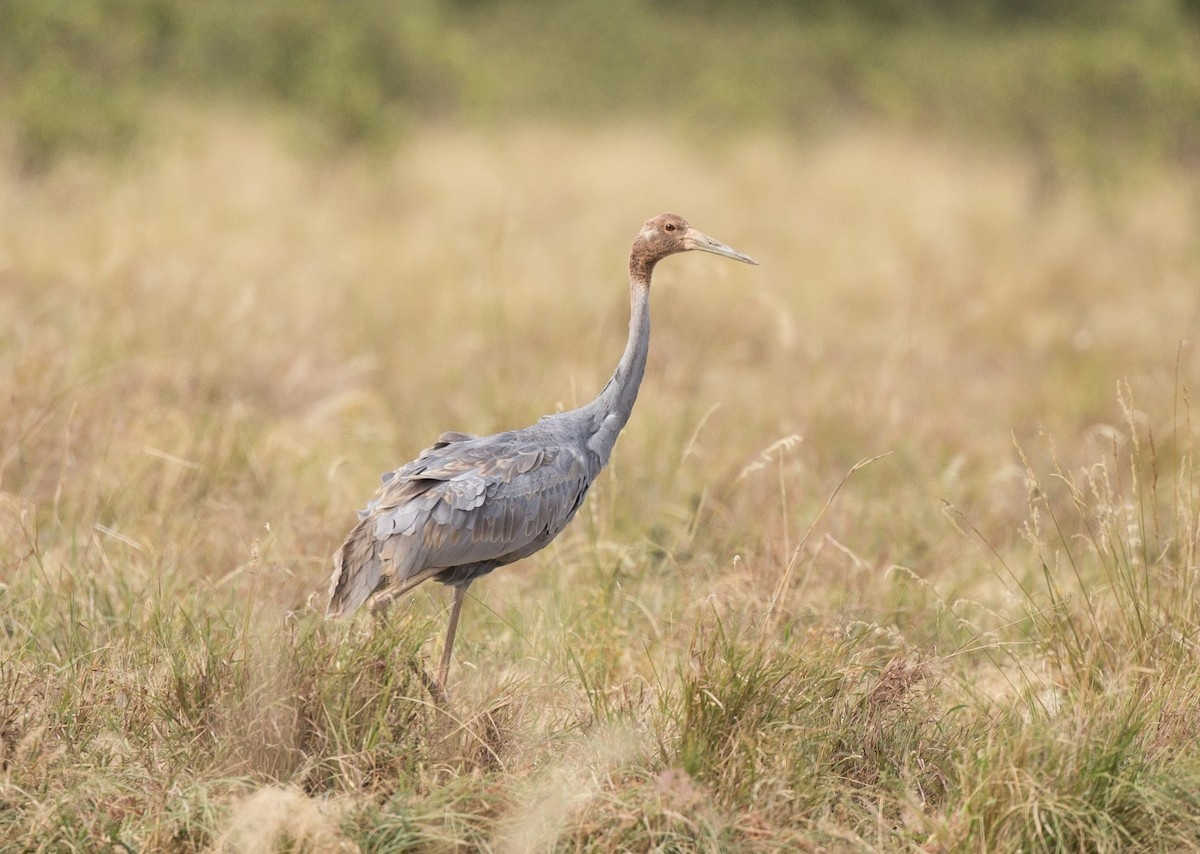crane: (319, 207, 762, 687)
